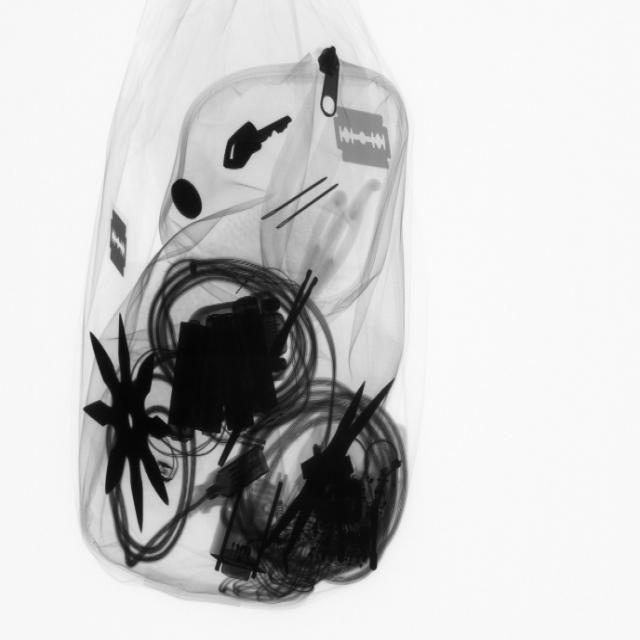BLADE: (327, 97, 395, 178), (105, 206, 133, 277)
SHURIKEN: (84, 318, 173, 531), (278, 385, 383, 555)
